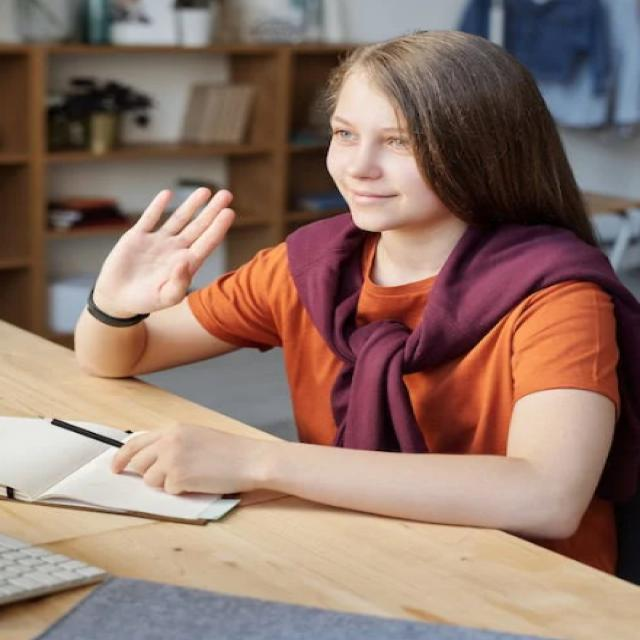Watch: (80, 280, 152, 334)
